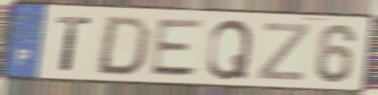6: (313, 22, 357, 85)
D: (93, 14, 154, 78)
E: (148, 18, 208, 78)
Q: (205, 17, 256, 82)
T: (54, 14, 93, 74)
Z: (254, 21, 312, 83)
